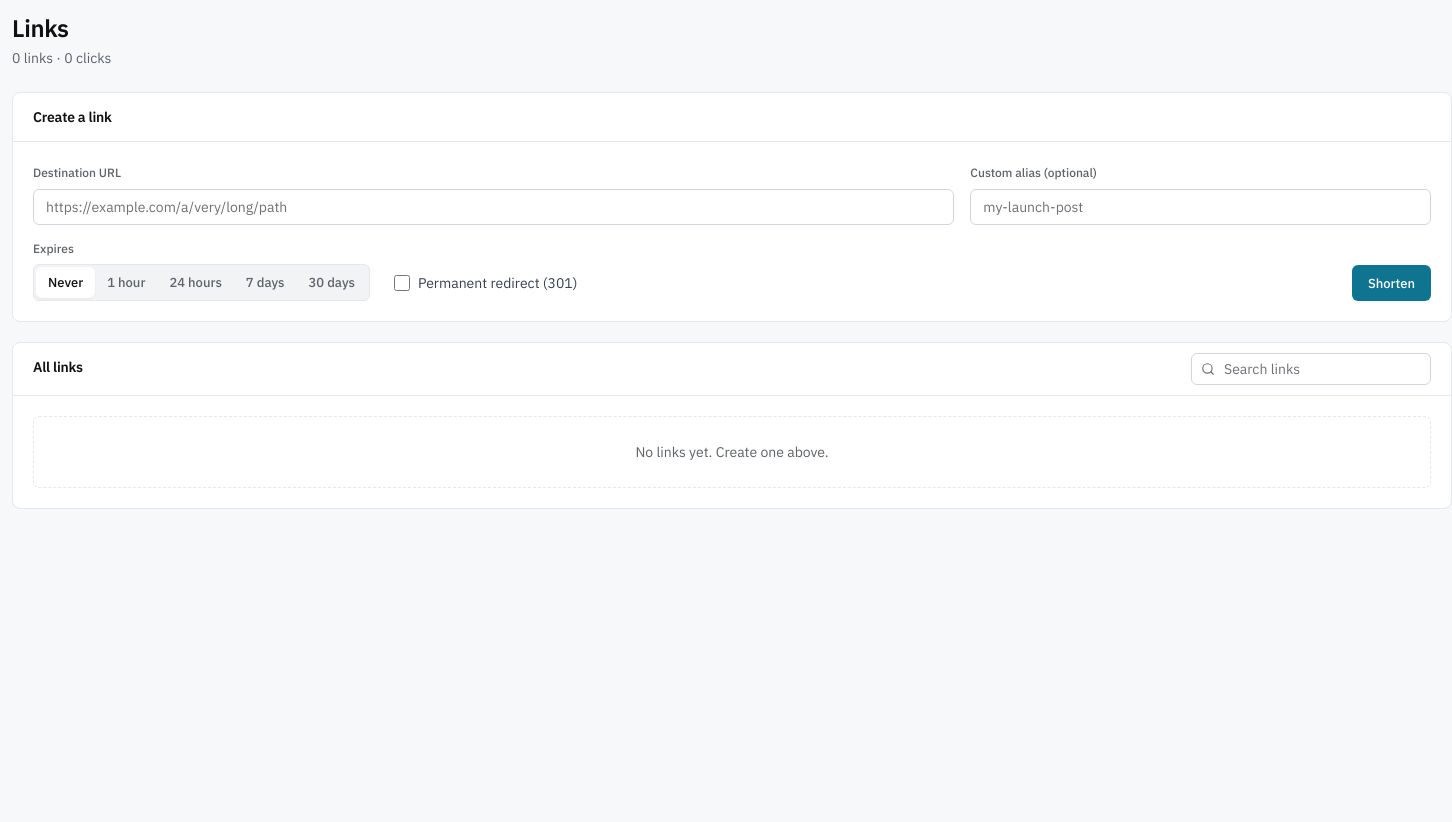
Links page › create flow shows an absolute short URL and QR
Expected: the text "No links yet. Create one above." is shown, [33,416,1431,488]
In the field labelled "Destination URL": (494, 207) [33,189,954,225], type "https://example.com/very/long"
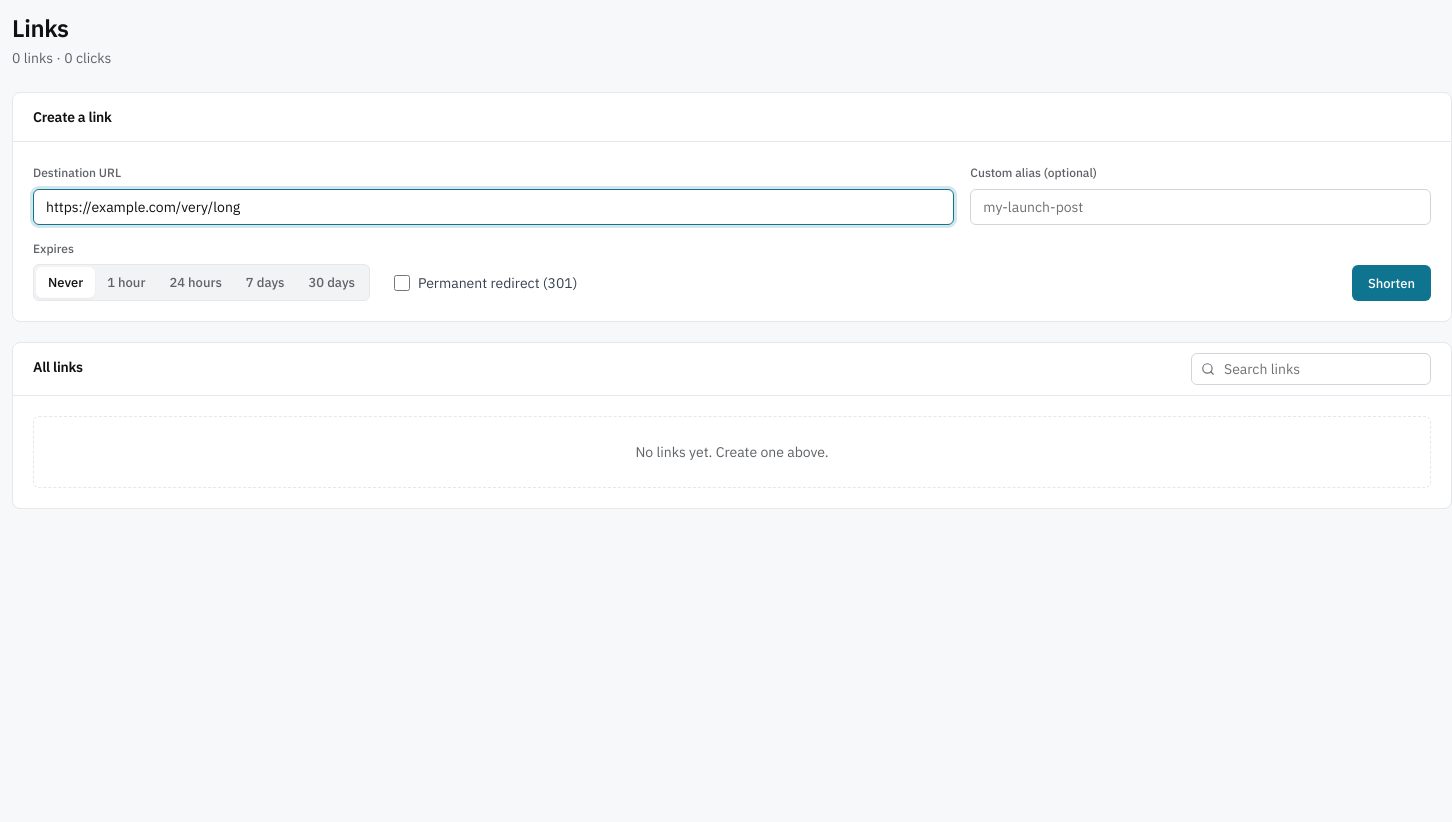
Click the button with test id "shorten-submit": (1391, 283) [1352,265,1431,301]
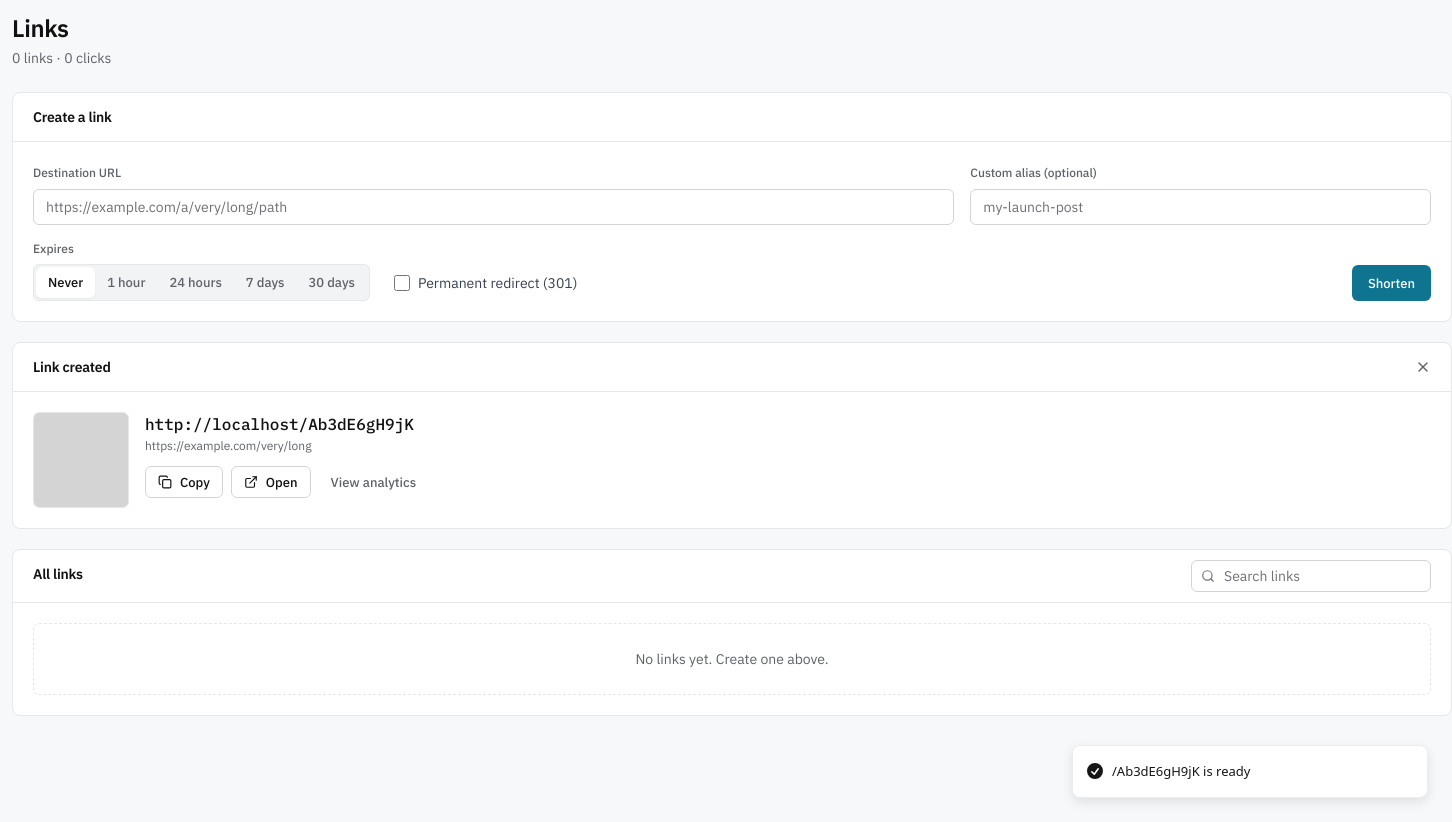
Now the text with test id "created-short-url" reads "http://localhost/Ab3dE6gH9jK", box [145,414,414,434]
